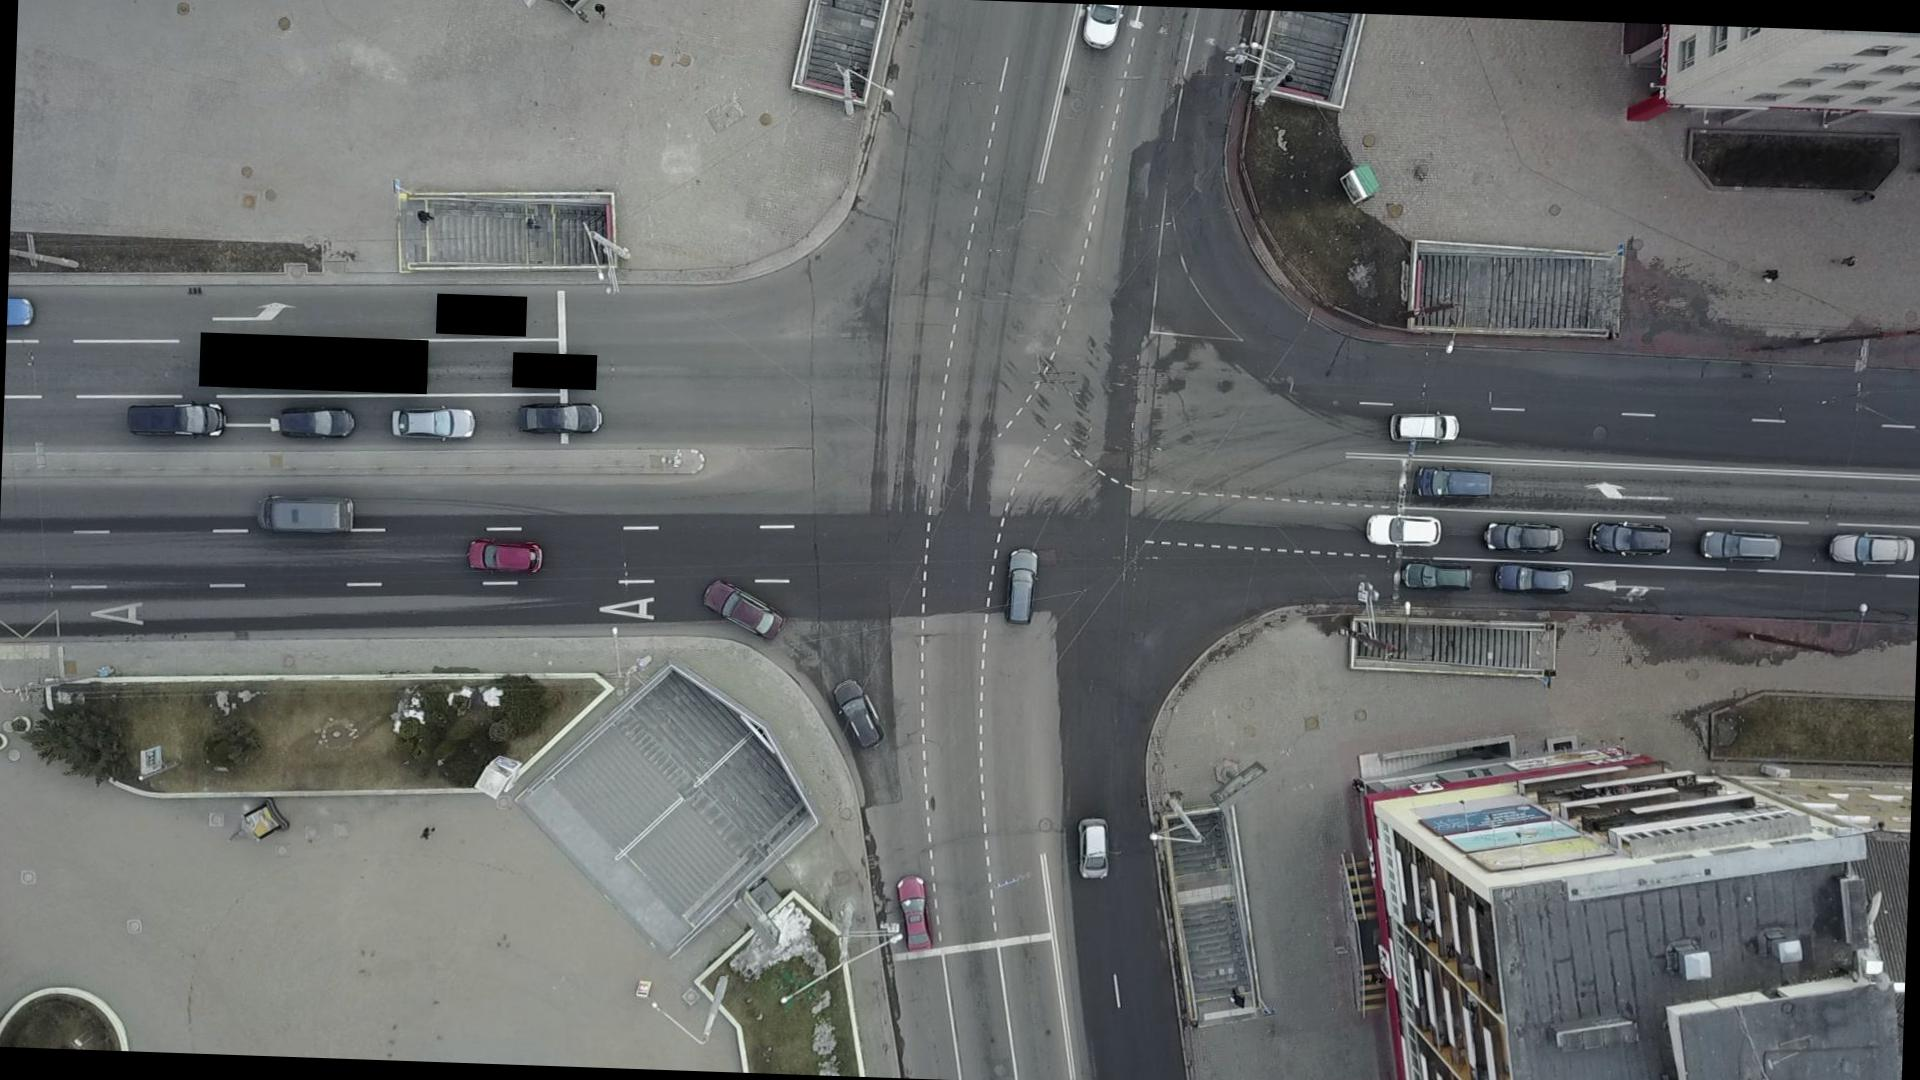vehicle: (699, 580, 787, 644), (827, 674, 893, 750), (253, 492, 357, 538), (125, 397, 228, 443), (997, 545, 1044, 626), (1586, 518, 1675, 560), (1364, 508, 1445, 553), (388, 404, 477, 444), (1828, 530, 1917, 570), (517, 400, 605, 439), (893, 873, 935, 953), (467, 537, 546, 579), (1698, 527, 1783, 567), (1408, 467, 1494, 504), (278, 404, 357, 443), (1480, 520, 1567, 555), (1396, 556, 1477, 595), (1073, 815, 1114, 886), (1386, 409, 1461, 447)
